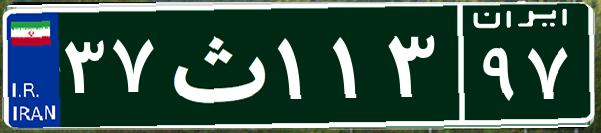1: (273, 28, 330, 110), (330, 28, 385, 110)
3: (385, 28, 445, 110), (57, 26, 110, 107)
7: (110, 28, 158, 105), (525, 38, 570, 115)
9: (475, 38, 525, 113)
ث: (158, 15, 273, 115)
